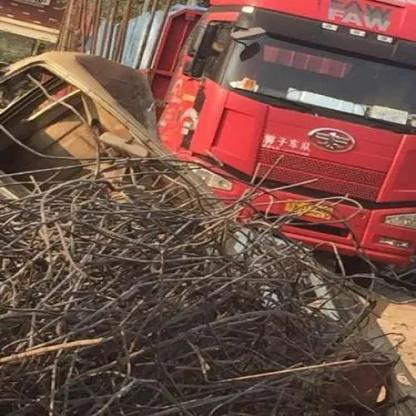rebar: (0, 159, 392, 415)
